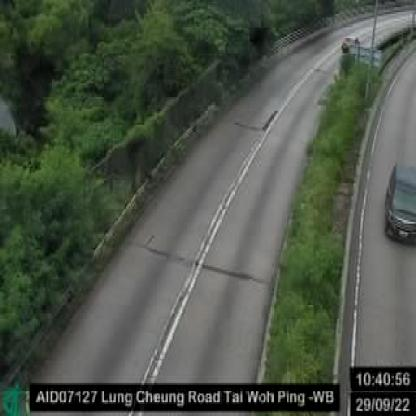Car: (385, 160, 415, 250)
